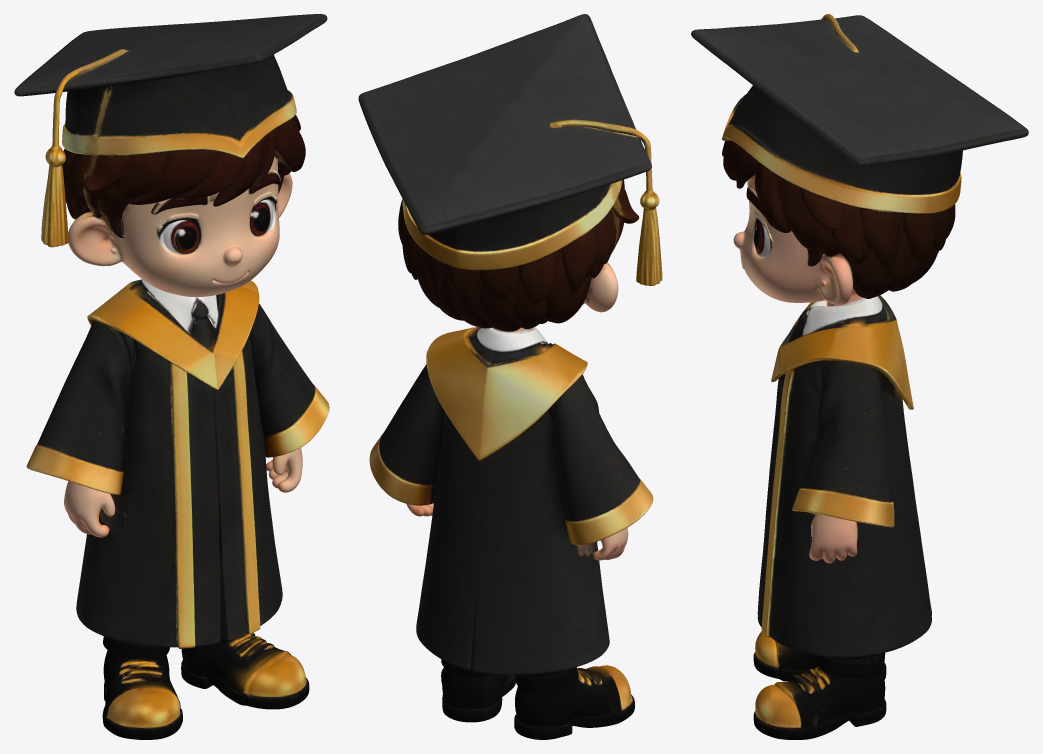
The model's file is graduate.glb.
3 views of the same model, side by side, from view 1: azimuth 30°, elevation 25°; view 2: azimuth 150°, elevation 25°; view 3: azimuth 270°, elevation 25° (orthographic). The views are drawn at different scales.
Parts seen in each view (by area): view 1: world; view 2: world; view 3: world.
Boxes of the visible parts, x1=… form: world: x1=14, y1=14, x2=329, y2=739; world: x1=358, y1=14, x2=662, y2=739; world: x1=691, y1=14, x2=1028, y2=739.
Size of the model in its own units: 0.9393 by 2 by 0.9162.
1 material, 1 textured.
